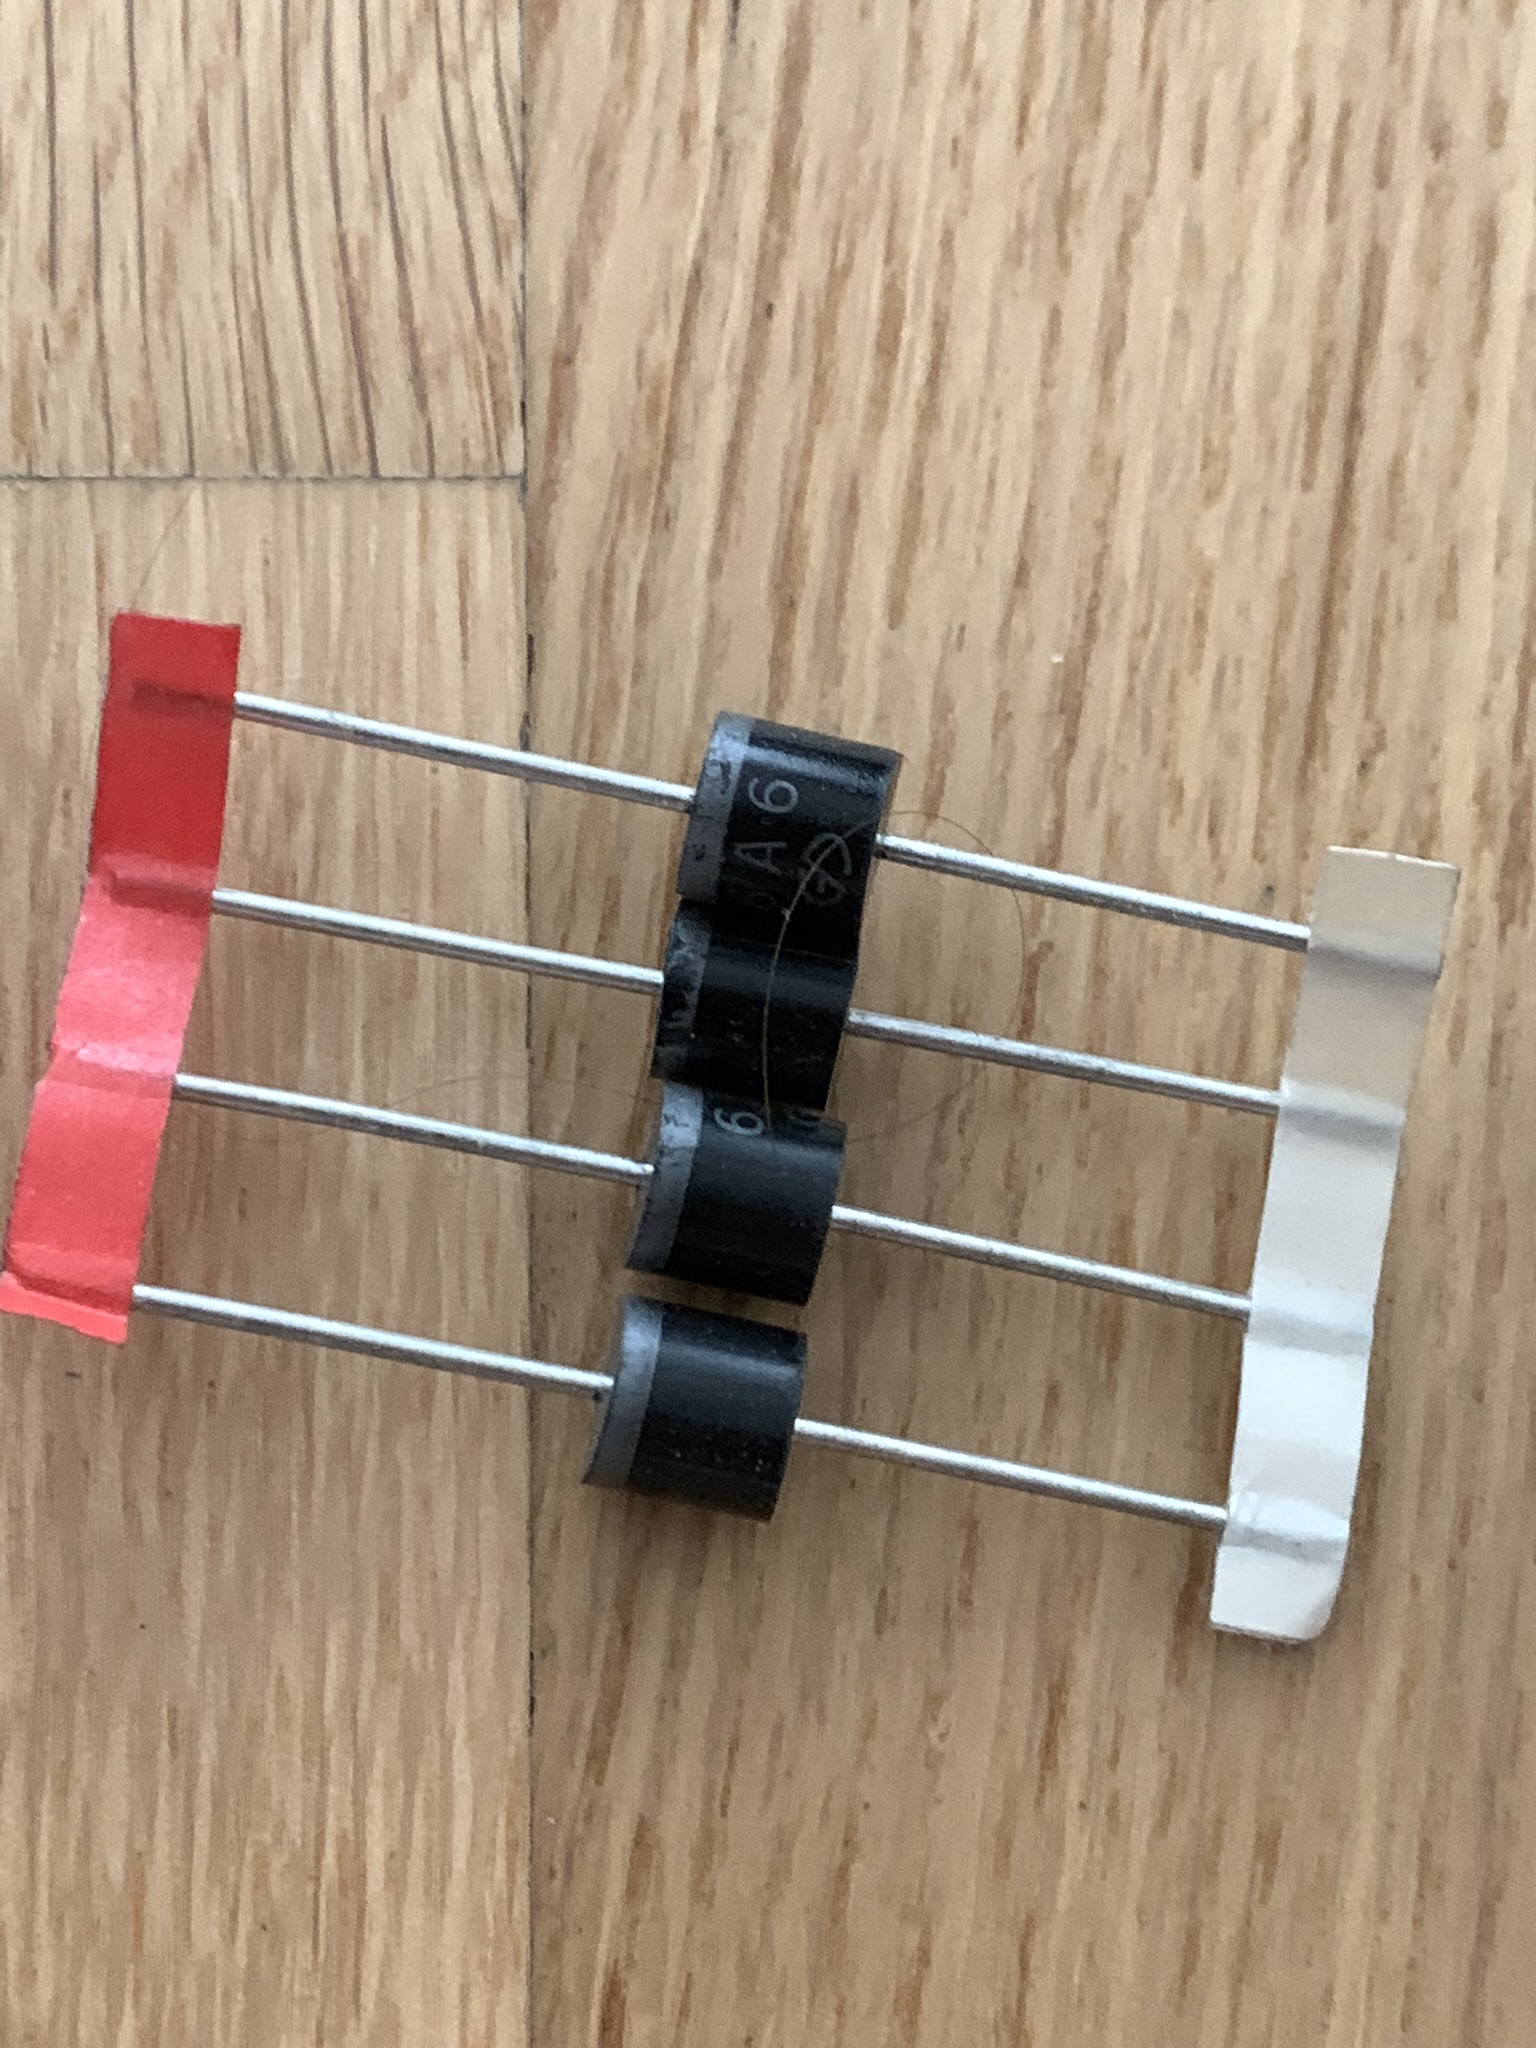diode_thd: (581, 1295, 810, 1524), (624, 1079, 850, 1306), (678, 713, 904, 927), (650, 898, 862, 1106)
